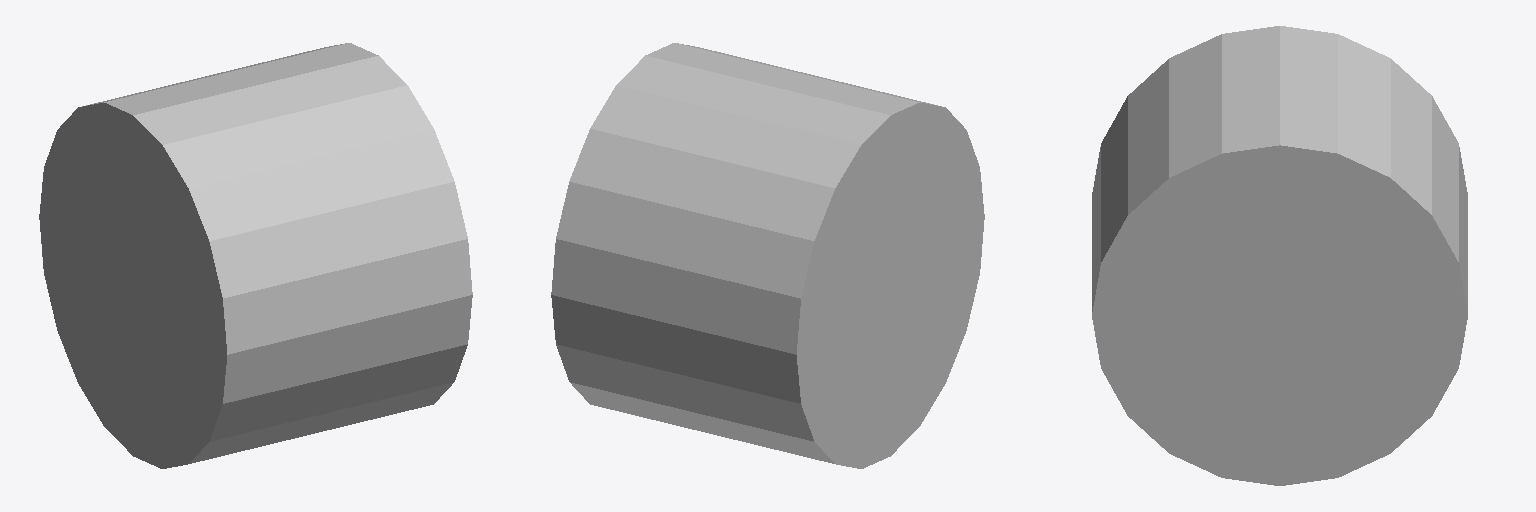
Rendered from Resaltado_Auriculotemporal_D_4.obj.
3 renders of one model, left to right at view 1: azimuth 30°, elevation 25°; view 2: azimuth 150°, elevation 25°; view 3: azimuth 270°, elevation 25°, orthographic.
Visible parts, largest first — view 1: polySurface14 Marcadores1; view 2: polySurface14 Marcadores1; view 3: polySurface14 Marcadores1.
Boxes of the visible parts, x1,y1,x2,y2 form: polySurface14 Marcadores1: [39, 43, 472, 468]; polySurface14 Marcadores1: [551, 43, 984, 468]; polySurface14 Marcadores1: [1092, 26, 1467, 485].
Bounding box in the file's own units: 0.021 × 0.0279 × 0.0279.